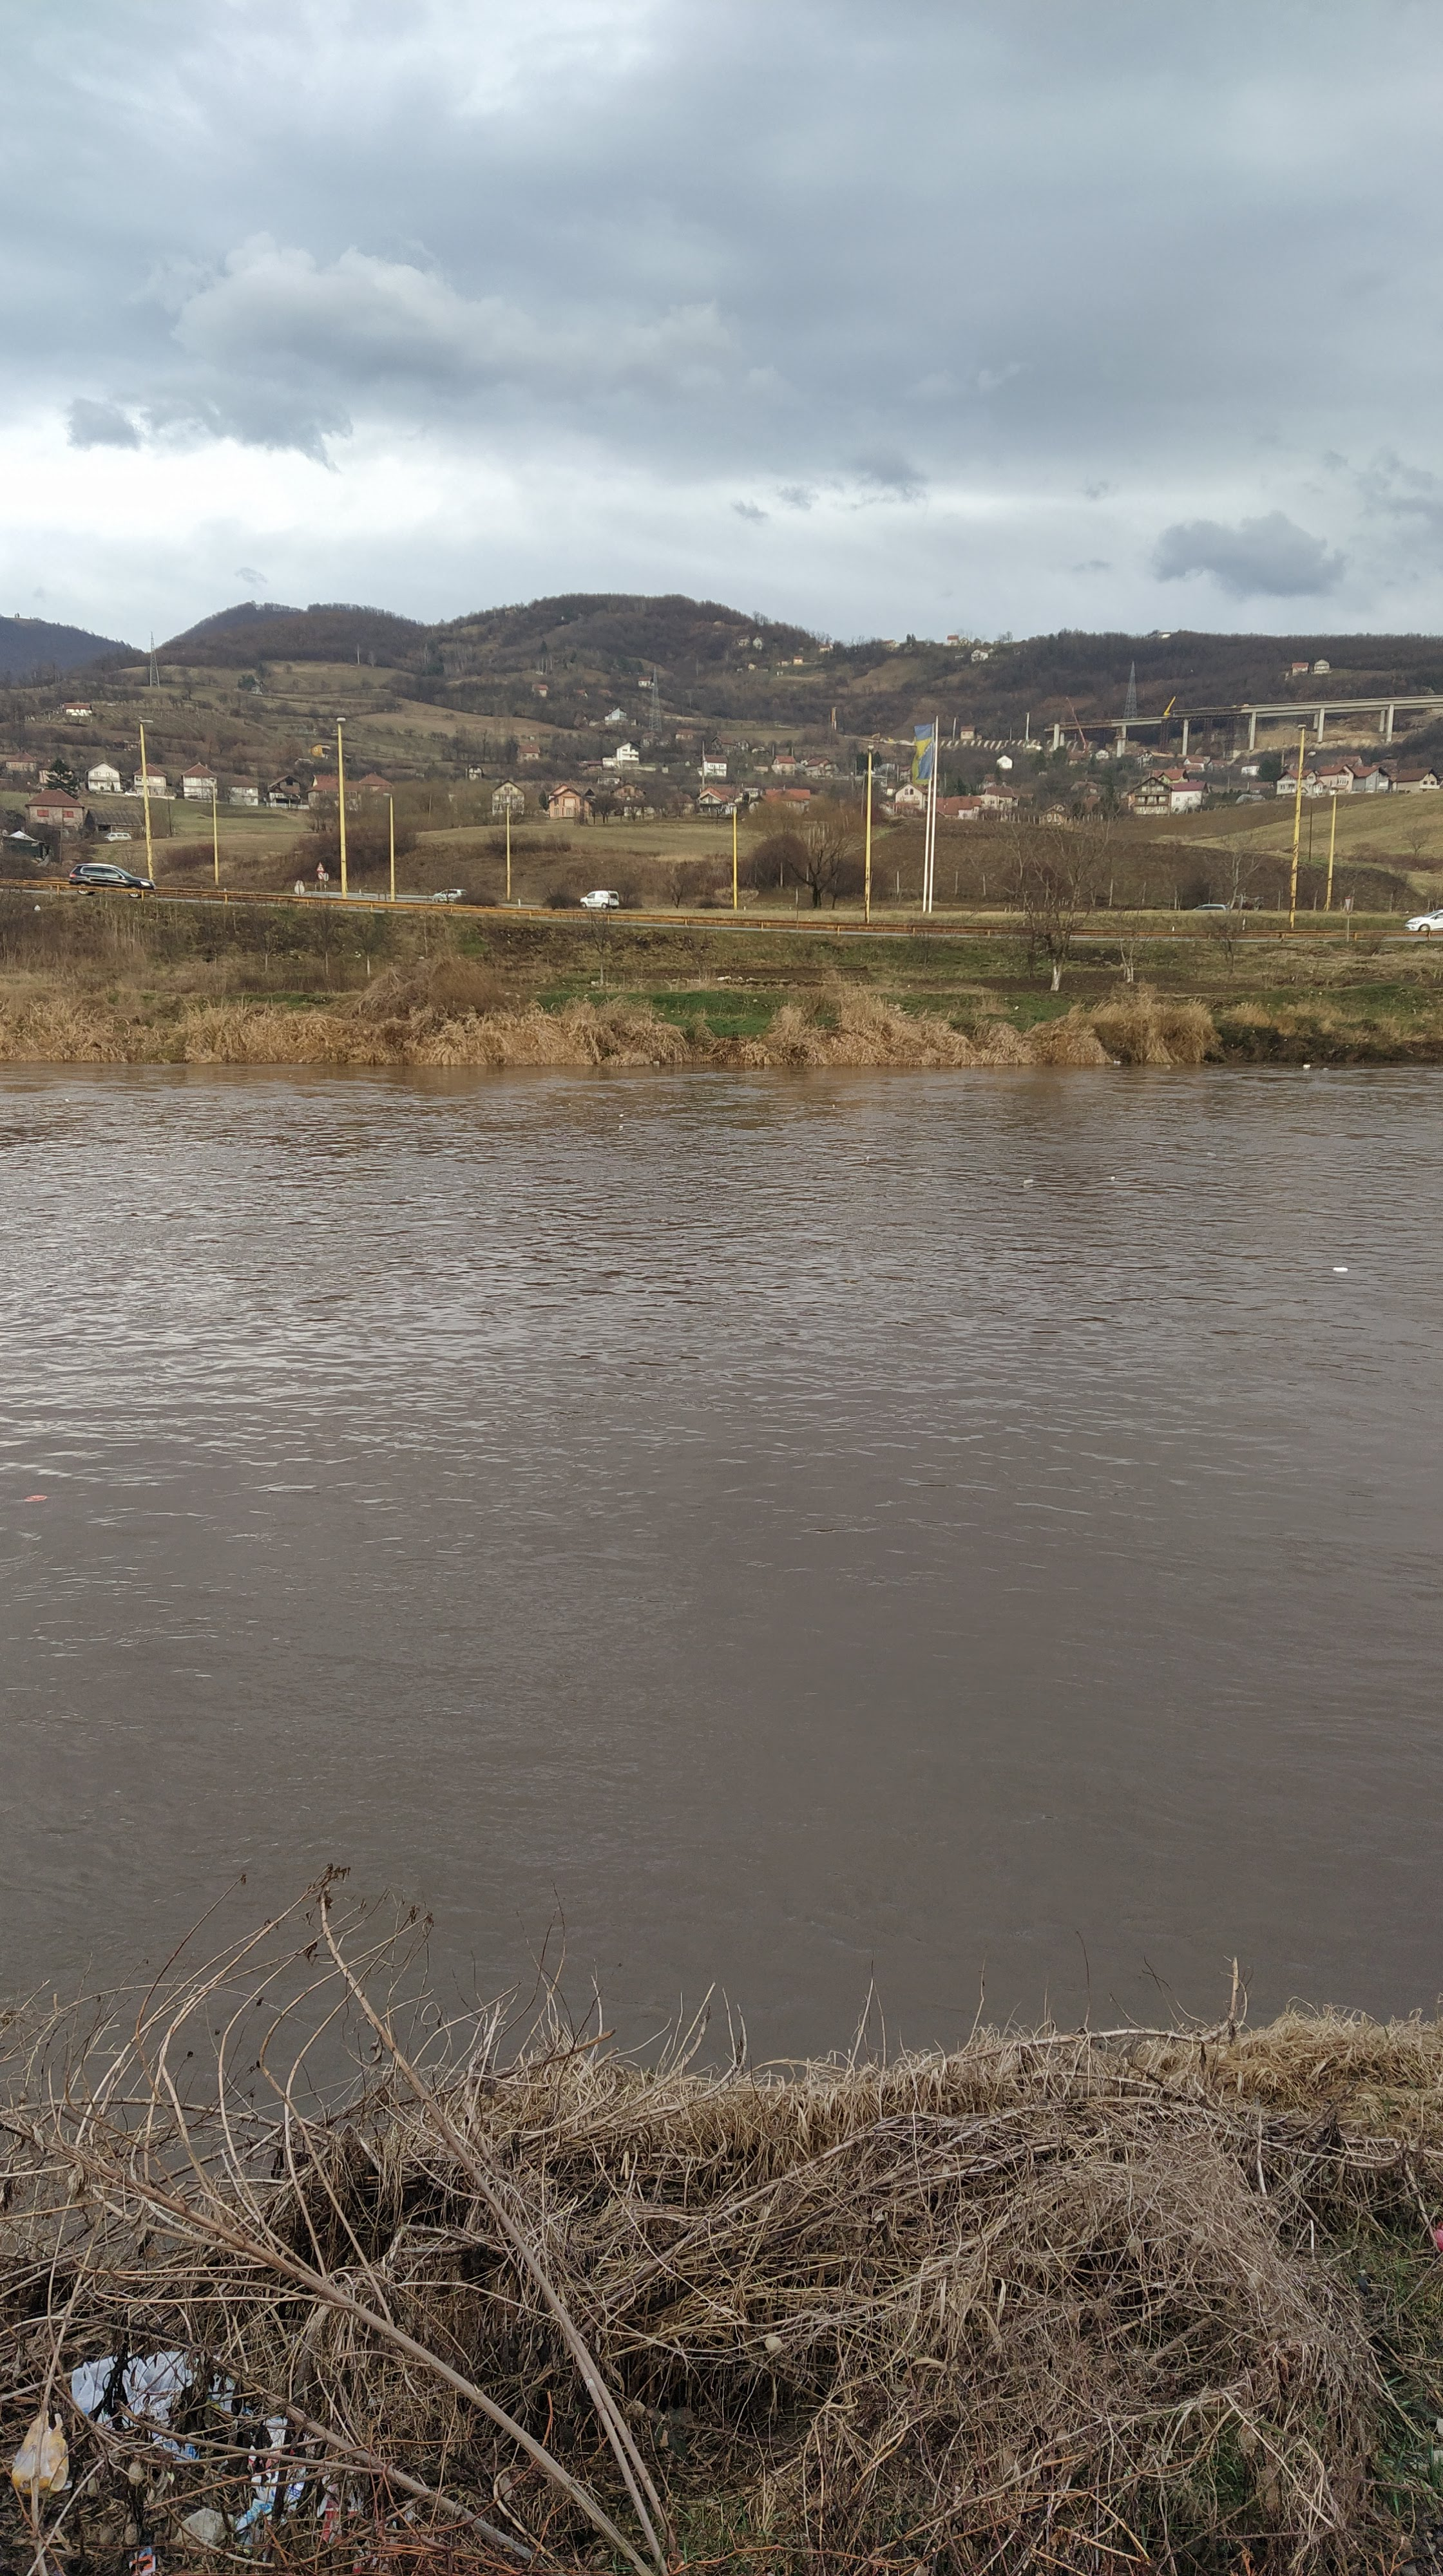Plastic Bottle: (1335, 1267, 1347, 1272), (1022, 1178, 1034, 1184), (1301, 1065, 1310, 1069), (1324, 1067, 1328, 1072), (1114, 1062, 1123, 1063)
